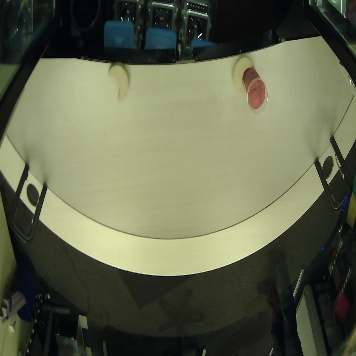full_cup: (242, 68, 269, 113)
puck: (107, 62, 130, 102), (231, 55, 254, 95)
